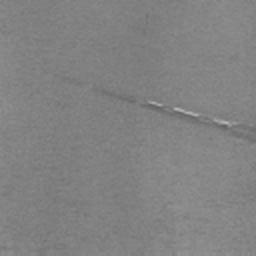Finishing roll printing: (62, 77, 256, 143)
